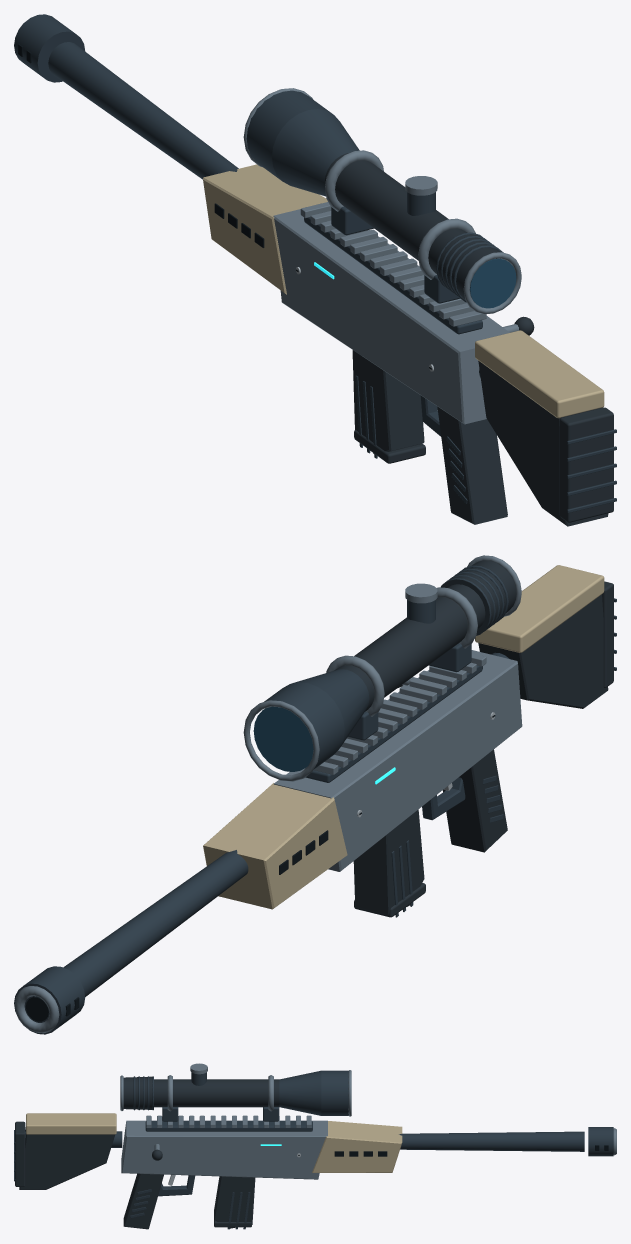
Rendered from sniper.glb.
3 renders of one model, top to bottom at view 1: azimuth 30°, elevation 25°; view 2: azimuth 150°, elevation 25°; view 3: azimuth 270°, elevation 25°, orthographic. The views are drawn at different scales.
Visible parts, largest first — view 1: sniper_part_0, sniper_part_2, sniper_part_4, sniper_stock_7, sniper_part_1, sniper_stock_8, sniper_part_9, sniper_stock_6; view 2: sniper_part_0, sniper_part_2, sniper_part_4, sniper_part_1, sniper_stock_7, sniper_stock_8, sniper_part_9, sniper_part_3; view 3: sniper_part_0, sniper_part_2, sniper_part_4, sniper_stock_7, sniper_part_1, sniper_stock_8, sniper_part_3.
Boxes of the visible parts, x1,y1,x2,y2 form: sniper_part_0: [19, 28, 521, 424]; sniper_part_2: [14, 14, 503, 503]; sniper_part_4: [324, 153, 534, 524]; sniper_stock_7: [478, 360, 613, 526]; sniper_part_1: [203, 164, 327, 294]; sniper_stock_8: [475, 330, 604, 418]; sniper_part_9: [470, 258, 516, 308]; sniper_stock_6: [479, 369, 616, 512]; sniper_part_0: [15, 555, 522, 1033]; sniper_part_2: [14, 565, 508, 1034]; sniper_part_4: [334, 560, 516, 917]; sniper_part_1: [203, 783, 347, 909]; sniper_stock_7: [478, 581, 613, 708]; sniper_stock_8: [475, 565, 604, 652]; sniper_part_9: [253, 706, 313, 771]; sniper_part_3: [25, 715, 495, 1021]; sniper_part_0: [120, 1063, 616, 1179]; sniper_part_2: [130, 1070, 613, 1229]; sniper_part_4: [123, 1076, 279, 1229]; sniper_stock_7: [15, 1121, 114, 1189]; sniper_part_1: [312, 1121, 402, 1172]; sniper_stock_8: [26, 1113, 116, 1134]; sniper_part_3: [298, 1145, 608, 1156].
Size of the model in its own units: 0.149 by 0.3752 by 1.3.
